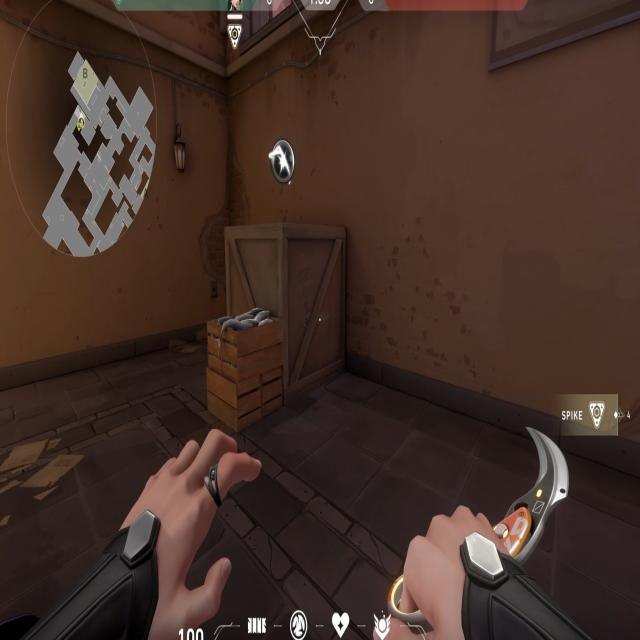B_Main_Wallbang: (202, 129, 311, 398)
